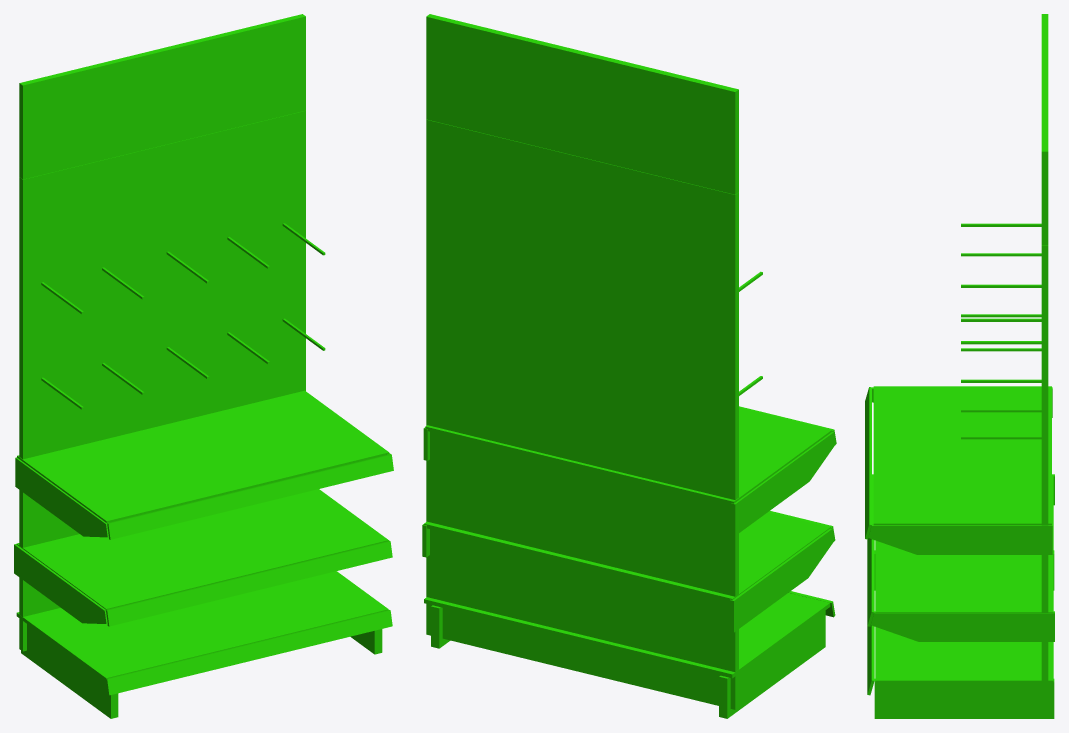
Rendered from Shop_Shelf_A_10_Lod0.fbx.
3 renders of one model, left to right at view 1: azimuth 30°, elevation 25°; view 2: azimuth 150°, elevation 25°; view 3: azimuth 270°, elevation 25°, orthographic. The views are drawn at different scales.
Parts seen in each view (by area): view 1: Shop_Shelf_A_10_Lod0; view 2: Shop_Shelf_A_10_Lod0; view 3: Shop_Shelf_A_10_Lod0.
Boxes of the visible parts, <box> form: Shop_Shelf_A_10_Lod0: <box>14,14,393,718</box>; Shop_Shelf_A_10_Lod0: <box>422,14,836,718</box>; Shop_Shelf_A_10_Lod0: <box>865,14,1054,718</box>.
Size of the model in its own units: 135 by 259 by 78.2.
